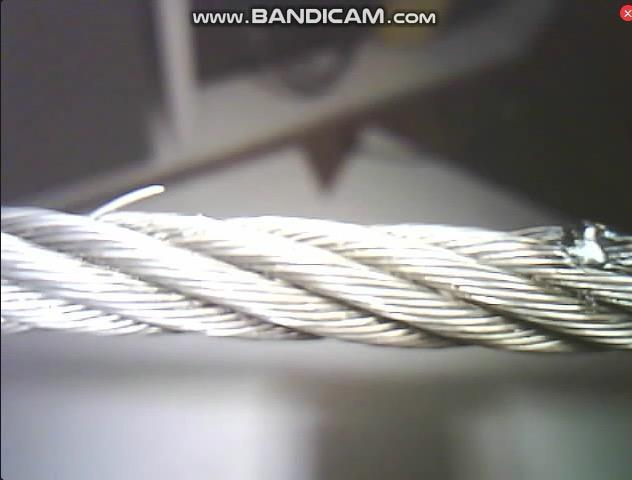thunderbolt: (539, 205, 627, 286), (63, 171, 171, 235)
